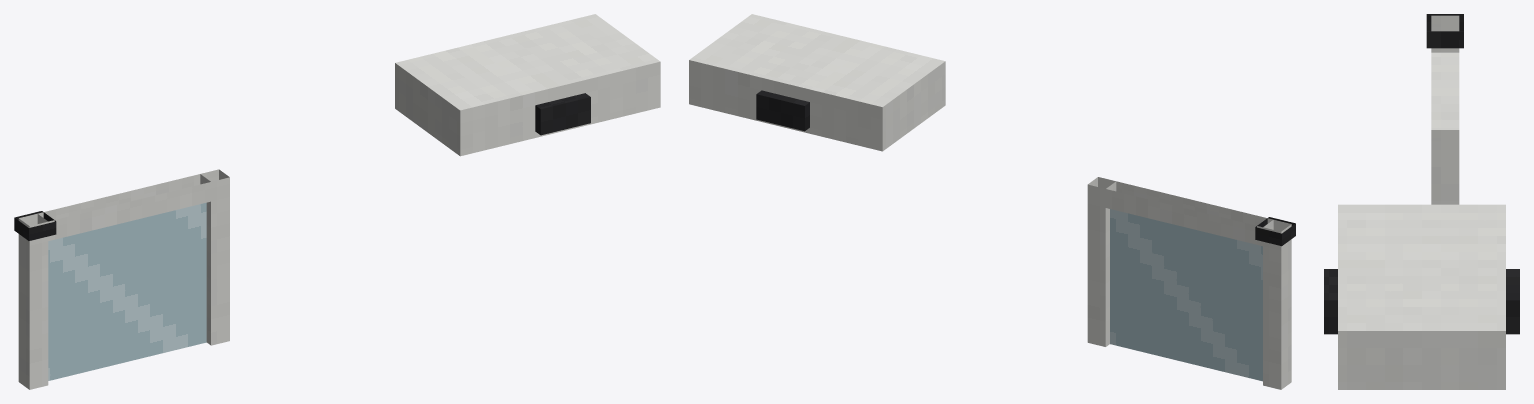
Rendered from auto_door_tele_slider_white_c1_upper_left_open.obj.
3 renders of one model, left to right at view 1: azimuth 30°, elevation 25°; view 2: azimuth 150°, elevation 25°; view 3: azimuth 270°, elevation 25°, orthographic. The views are drawn at different scales.
Visible parts, largest first — view 1: auto_door_tele_slider_white_c1_upper_left_open; view 2: auto_door_tele_slider_white_c1_upper_left_open; view 3: auto_door_tele_slider_white_c1_upper_left_open.
Part boxes in pixels (left/top/right/bottom): auto_door_tele_slider_white_c1_upper_left_open: left=14, top=14, right=660, bottom=389; auto_door_tele_slider_white_c1_upper_left_open: left=689, top=14, right=1295, bottom=389; auto_door_tele_slider_white_c1_upper_left_open: left=1324, top=14, right=1519, bottom=389.
Size of the model in its own units: 2.98 by 1 by 0.6562.
